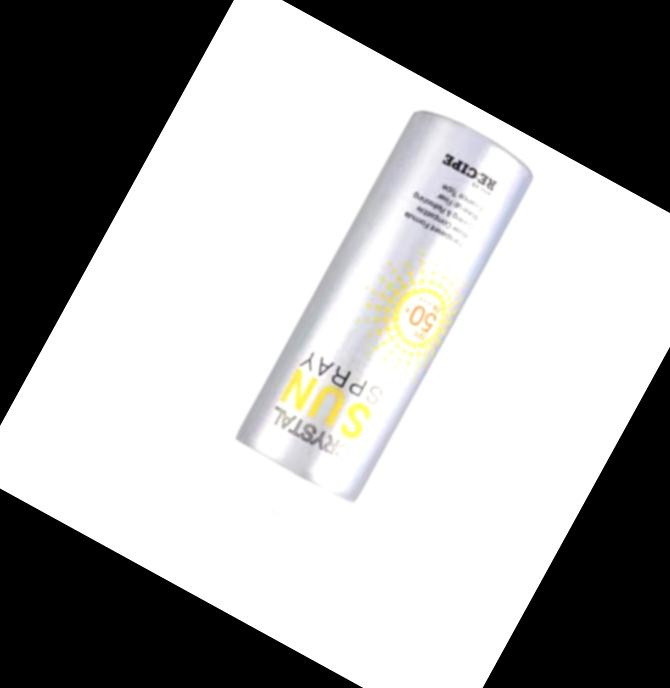cosmetic: (166, 99, 538, 618)
